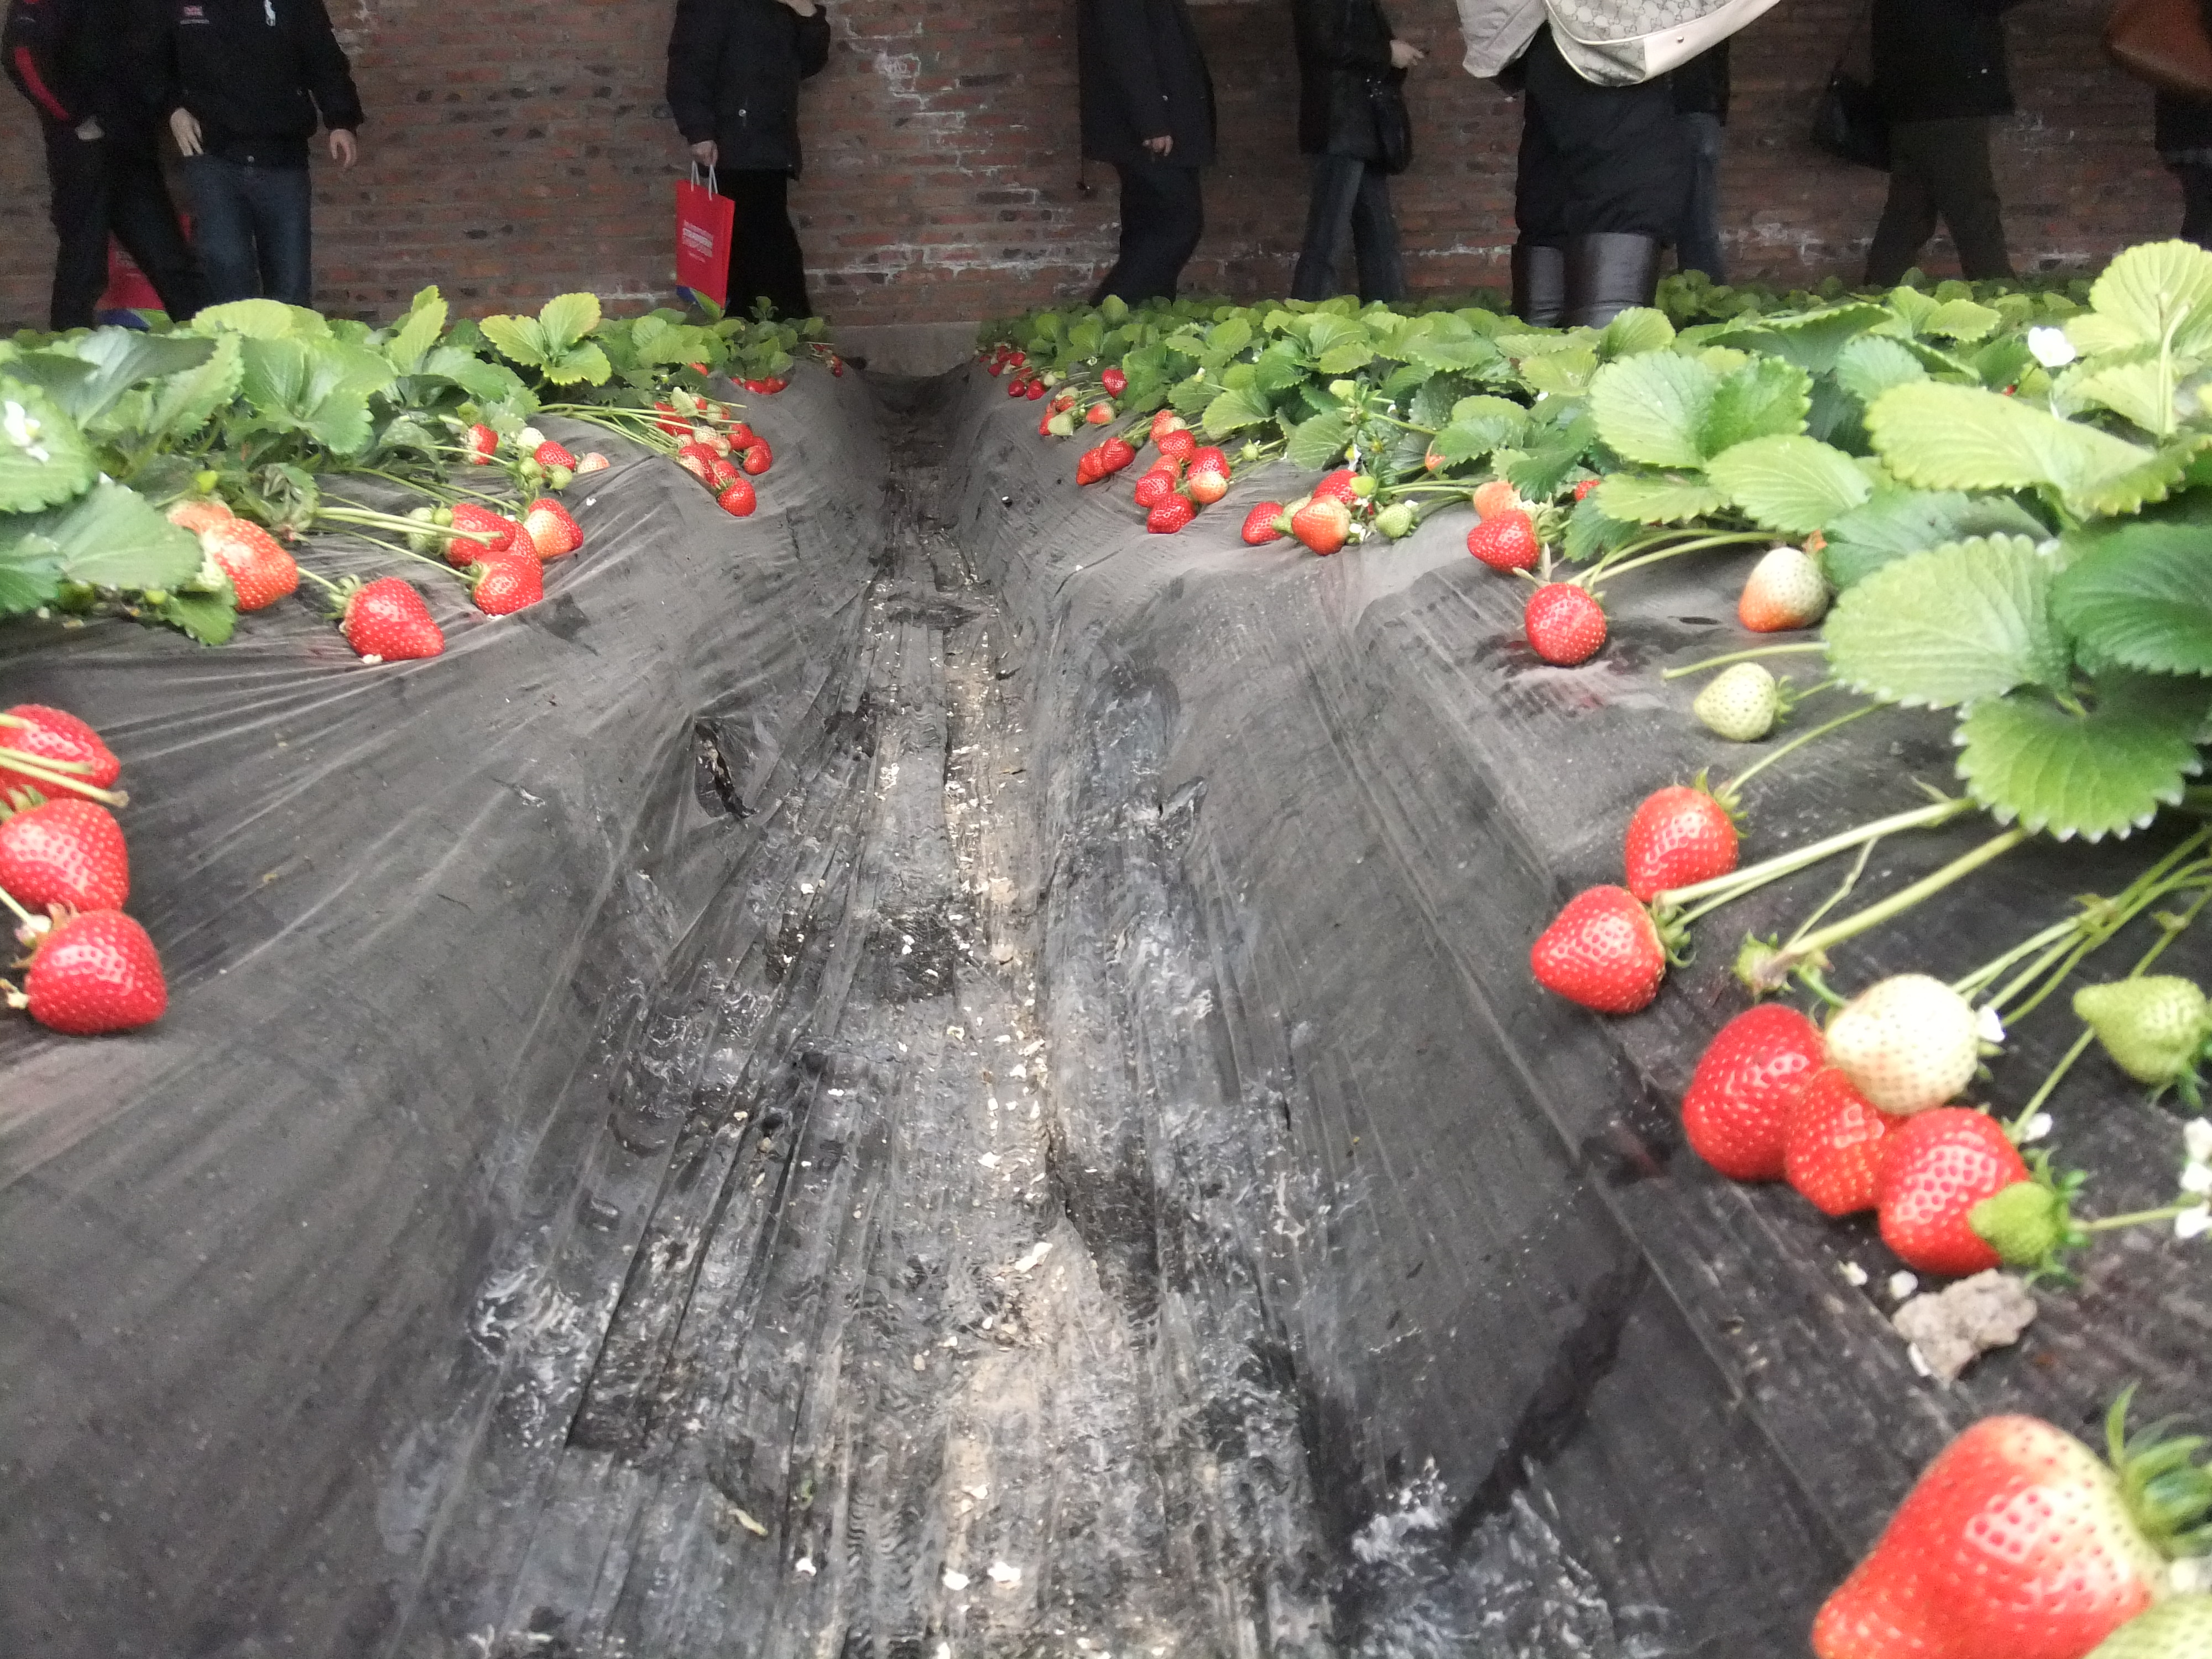StrawberryCone: (1663, 986, 1824, 1194), (9, 910, 195, 1060), (1885, 1107, 2027, 1288), (1524, 870, 1669, 1018), (1608, 769, 1757, 906), (327, 565, 458, 674), (2, 706, 125, 805), (195, 514, 314, 612), (3, 816, 136, 901), (1524, 580, 1611, 671), (1456, 505, 1552, 575), (439, 491, 523, 559), (463, 559, 552, 620), (704, 465, 770, 523), (1238, 493, 1289, 549), (1144, 498, 1204, 537), (1129, 469, 1177, 507), (1097, 434, 1136, 476)
StrawberryIrremovable: (1810, 1406, 2167, 1652), (1834, 971, 1986, 1094), (2074, 974, 2210, 1089), (1977, 1169, 2074, 1272), (1740, 538, 1834, 636), (1686, 655, 1787, 746), (1291, 493, 1360, 559), (519, 500, 570, 552), (1369, 502, 1421, 544), (1144, 410, 1190, 439), (1186, 474, 1230, 504), (1040, 406, 1078, 439), (573, 444, 611, 476), (545, 458, 578, 491), (514, 425, 547, 451), (1082, 404, 1116, 429), (1050, 385, 1082, 404)
StrawberryOther: (1791, 1054, 1898, 1234), (519, 491, 587, 556), (1310, 464, 1374, 519), (730, 371, 794, 404), (460, 420, 503, 467), (1177, 444, 1233, 479), (1153, 422, 1197, 465), (531, 434, 578, 472), (984, 340, 1029, 378), (1076, 451, 1111, 490), (808, 342, 846, 376), (1096, 371, 1134, 401), (1029, 376, 1049, 406), (1007, 382, 1029, 404)
StrawberryRemovable: (1670, 990, 1827, 1194), (14, 913, 192, 1056), (1886, 1107, 2024, 1286), (1531, 875, 1670, 1016), (1611, 774, 1757, 901), (1792, 1056, 1897, 1234), (2, 805, 153, 906), (334, 570, 456, 673), (2, 706, 131, 800), (197, 518, 308, 612), (1524, 580, 1608, 669), (439, 490, 519, 559), (1460, 509, 1548, 572), (467, 556, 547, 619), (523, 498, 583, 561), (1313, 464, 1369, 516), (707, 472, 768, 519), (1242, 497, 1289, 549), (1144, 502, 1204, 537), (1181, 444, 1233, 479), (462, 423, 503, 465), (1157, 422, 1197, 465), (1130, 469, 1176, 507), (988, 340, 1029, 378), (1097, 434, 1139, 472), (733, 371, 787, 401), (533, 437, 578, 472), (1076, 448, 1115, 486), (810, 342, 846, 376), (1097, 368, 1134, 401), (1029, 376, 1049, 404), (1007, 378, 1026, 401)
